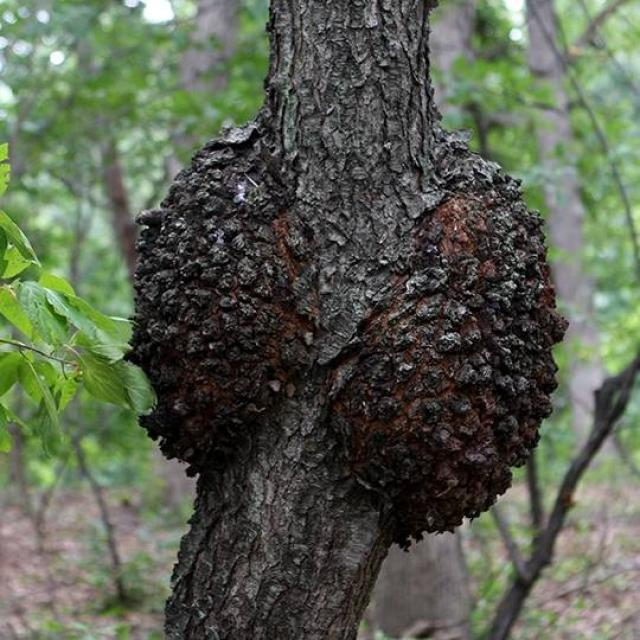Black_knot: (124, 0, 569, 555), (322, 138, 569, 551)
